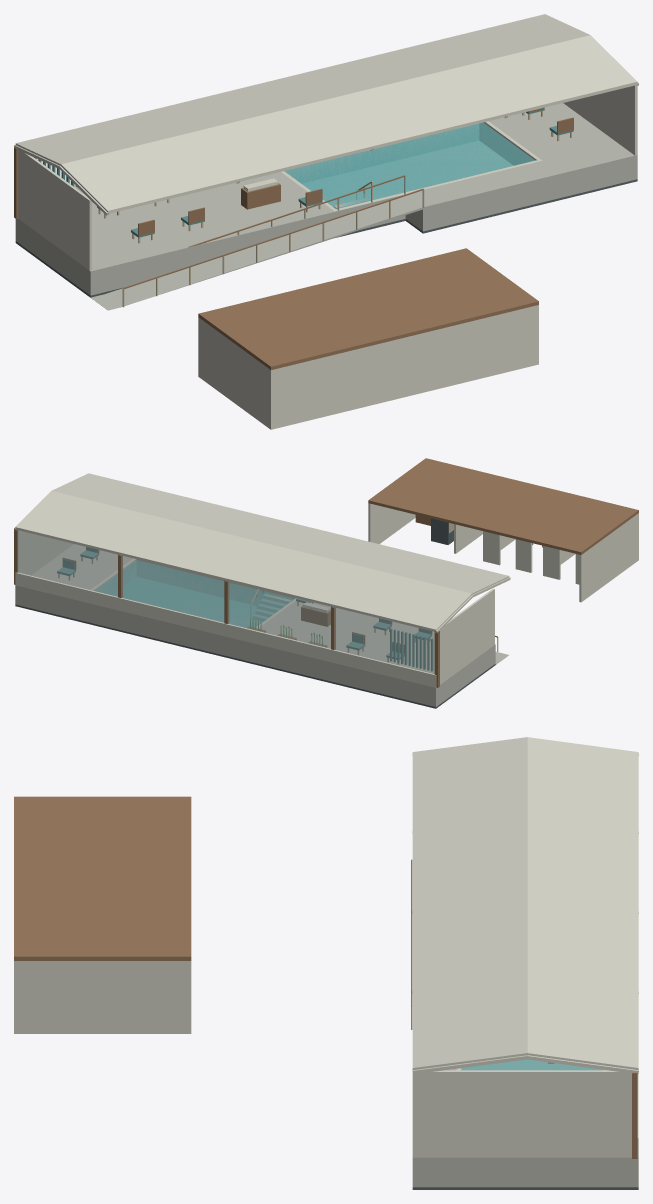
The model's file is VIP_QUIET_r002.glb.
The picture shows the model from 3 angles, top to bottom: view 1: azimuth 30°, elevation 25°; view 2: azimuth 150°, elevation 25°; view 3: azimuth 270°, elevation 25°; orthographic projection. The views are drawn at different scales.
Visible parts, largest first — view 1: G2VIP_QUIET_RoofPanel1, G2VIP_QUIET_AftRoof, G2VIP_QUIET_RoofPanel0, G2VIP_QUIET_AftBack, G2VIP_QUIET_TerraceWest, G2VIP_QUIET_Water_Illustrative, G2VIP_QUIET_TerraceEast, G2VIP_QUIET_TerraceAftLanding, G2VIP_QUIET_ArrivalRamp, G2VIP_QUIET_VesselFloor, G2VIP_QUIET_InnerWall, G2VIP_QUIET_AftWest (+7 smaller); view 2: G2VIP_QUIET_RoofPanel0, G2VIP_QUIET_ForeClerestory, G2VIP_QUIET_AftRoof, G2VIP_QUIET_RoofPanel1, G2VIP_QUIET_TerraceFore, G2VIP_QUIET_Water_Illustrative, G2VIP_QUIET_ForePlinth, G2VIP_QUIET_TerraceWest, G2VIP_QUIET_InnerWall, G2VIP_QUIET_AftWest, G2VIP_QUIET_TerraceEast, G2VIP_QUIET_TankAft (+9 smaller); view 3: G2VIP_QUIET_RoofPanel1, G2VIP_QUIET_RoofPanel0, G2VIP_QUIET_AftRoof, G2VIP_QUIET_OuterWall, G2VIP_QUIET_AftEast, G2VIP_QUIET_TerraceEast, G2VIP_QUIET_Water_Illustrative, G2VIP_QUIET_TerraceFore, G2VIP_QUIET_VesselFloor.
Part boxes in pixels (x1,y1,x2,y2): G2VIP_QUIET_RoofPanel1: (61, 35, 637, 213); G2VIP_QUIET_AftRoof: (198, 248, 538, 369); G2VIP_QUIET_RoofPanel0: (15, 14, 589, 165); G2VIP_QUIET_AftBack: (269, 305, 538, 429); G2VIP_QUIET_TerraceWest: (28, 172, 334, 294); G2VIP_QUIET_Water_Illustrative: (284, 122, 534, 208); G2VIP_QUIET_TerraceEast: (489, 103, 637, 197); G2VIP_QUIET_TerraceAftLanding: (405, 161, 560, 231); G2VIP_QUIET_ArrivalRamp: (106, 195, 422, 306); G2VIP_QUIET_VesselFloor: (302, 141, 512, 206); G2VIP_QUIET_InnerWall: (18, 150, 91, 270); G2VIP_QUIET_AftWest: (198, 317, 269, 428); G2VIP_QUIET_RoofPanel0: (15, 491, 471, 631); G2VIP_QUIET_ForeClerestory: (17, 530, 434, 673); G2VIP_QUIET_AftRoof: (368, 458, 638, 554); G2VIP_QUIET_RoofPanel1: (51, 473, 509, 594); G2VIP_QUIET_TerraceFore: (15, 585, 445, 706); G2VIP_QUIET_Water_Illustrative: (95, 560, 294, 627); G2VIP_QUIET_ForePlinth: (15, 572, 436, 687); G2VIP_QUIET_TerraceWest: (259, 601, 495, 699); G2VIP_QUIET_InnerWall: (440, 589, 494, 684); G2VIP_QUIET_AftWest: (579, 514, 637, 602); G2VIP_QUIET_TerraceEast: (31, 544, 132, 589); G2VIP_QUIET_TankAft: (137, 559, 295, 604); G2VIP_QUIET_RoofPanel1: (412, 737, 527, 1069); G2VIP_QUIET_RoofPanel0: (527, 737, 638, 1069); G2VIP_QUIET_AftRoof: (14, 796, 191, 960); G2VIP_QUIET_OuterWall: (412, 1070, 631, 1157); G2VIP_QUIET_AftEast: (17, 961, 191, 1033); G2VIP_QUIET_TerraceEast: (412, 1157, 607, 1187); G2VIP_QUIET_Water_Illustrative: (461, 1059, 602, 1070); G2VIP_QUIET_TerraceFore: (608, 1157, 638, 1187); G2VIP_QUIET_VesselFloor: (461, 1059, 601, 1069).
Size of the model in its own units: 31.84 by 6.38 by 26.41.
